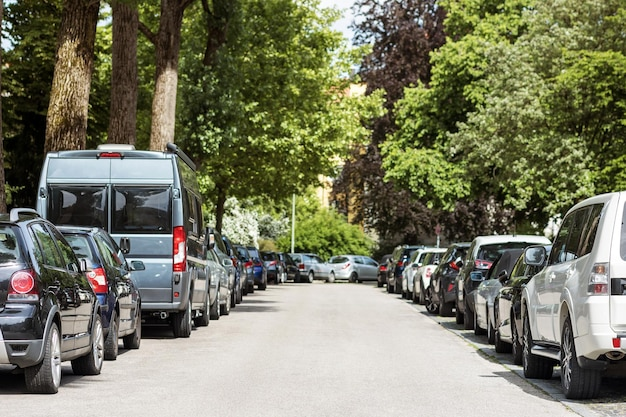Car: (520, 182, 626, 404), (5, 205, 118, 396), (324, 253, 385, 287)
